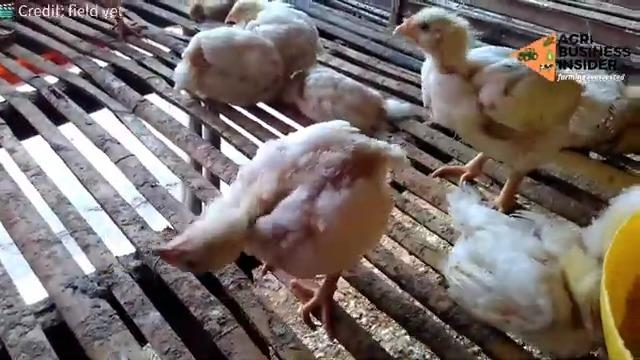AbNormal: (157, 122, 400, 312)
